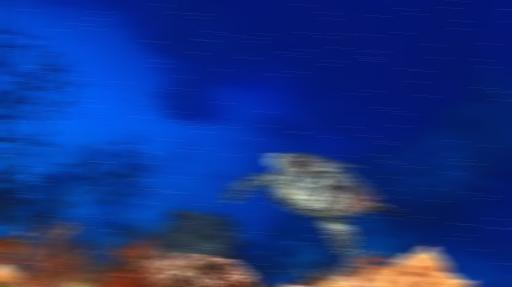Fish: (223, 152, 402, 257)
